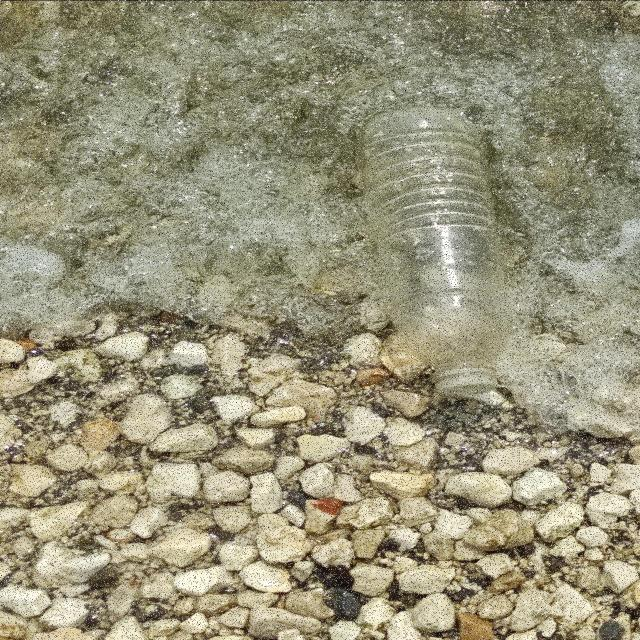plastic_waste: (357, 107, 515, 397)
